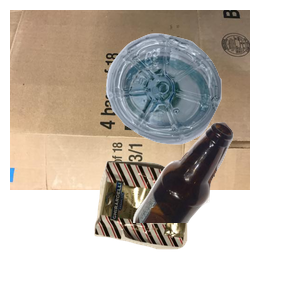cardboard: (10, 10, 250, 190)
glass: (130, 120, 300, 300)
plastic: (104, 31, 300, 168)
trash: (92, 158, 277, 300)
